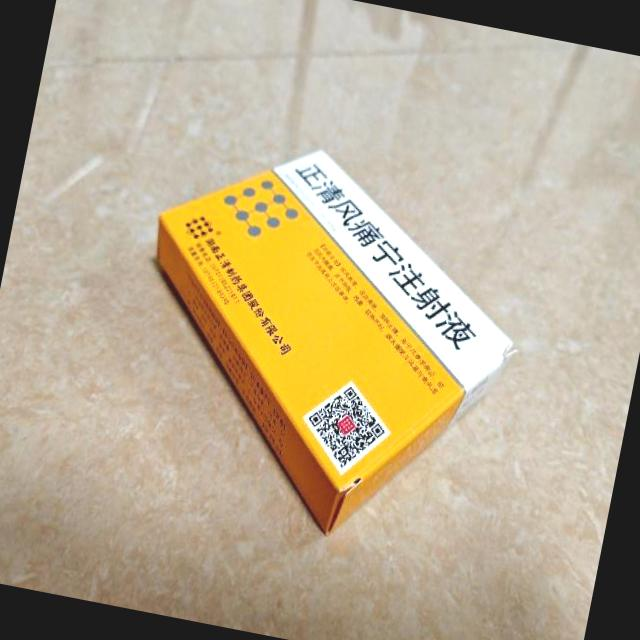box: (105, 120, 548, 564)
